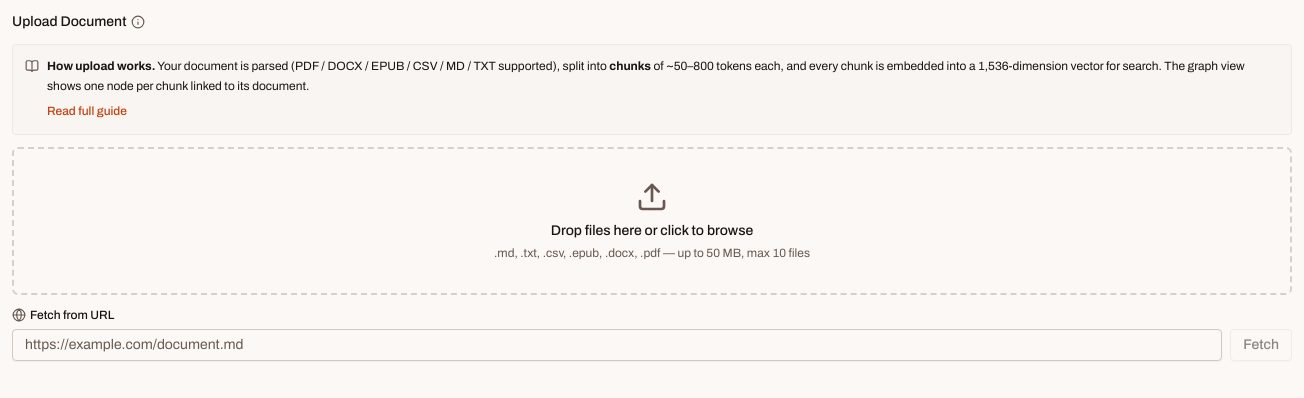
Test: DocumentUploadZone › shows error when URL fetch throws a network error
Type "https://example.com/doc.md" into the field with placeholder "https://example.com/document.md" at x=617, y=344, box top-left (12, 328), bottom-right (1222, 360)
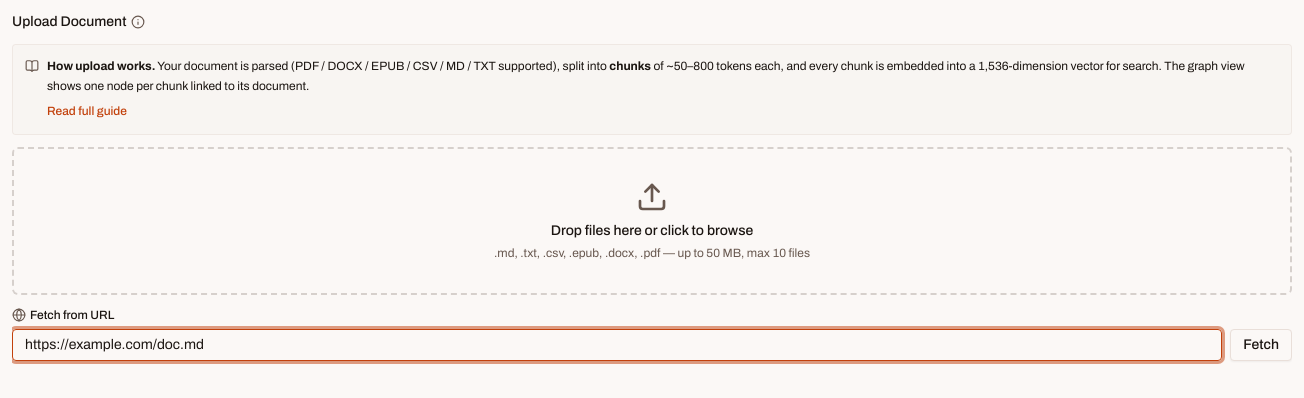
Click the button "Fetch" at x=1261, y=344, box top-left (1230, 328), bottom-right (1292, 360)
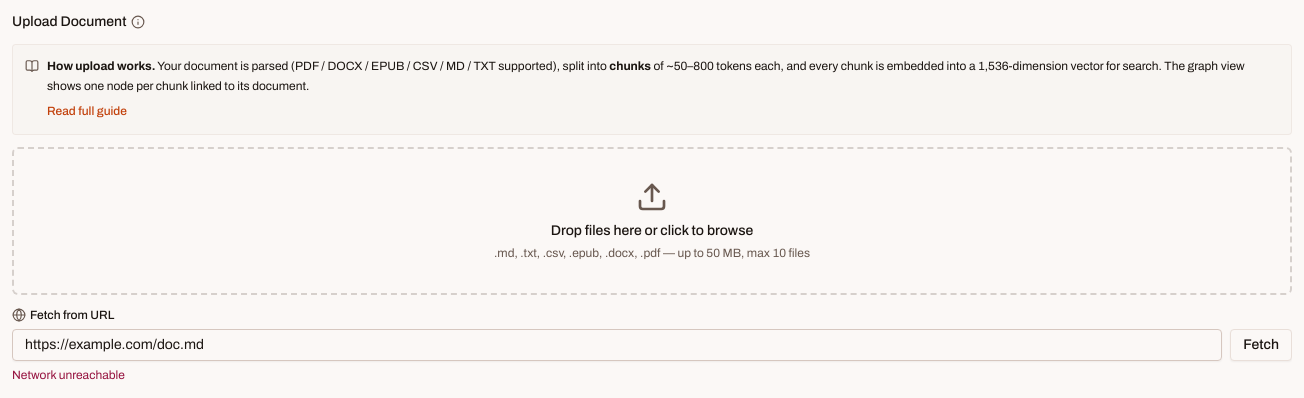
Result: the text "Network unreachable" is shown at top-left (12, 368), bottom-right (125, 382)
